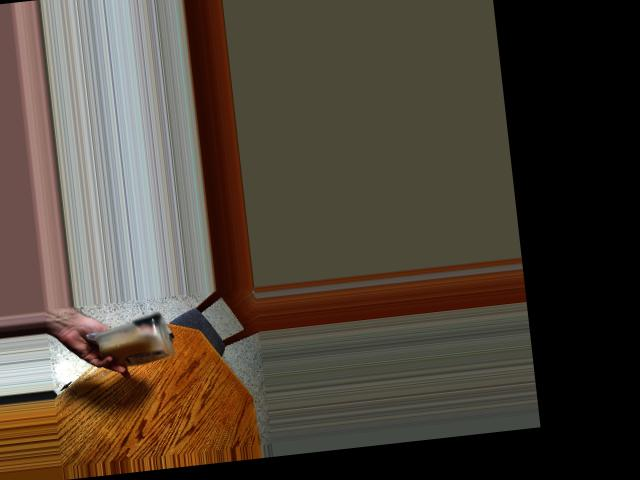cheese: (99, 317, 170, 367)
